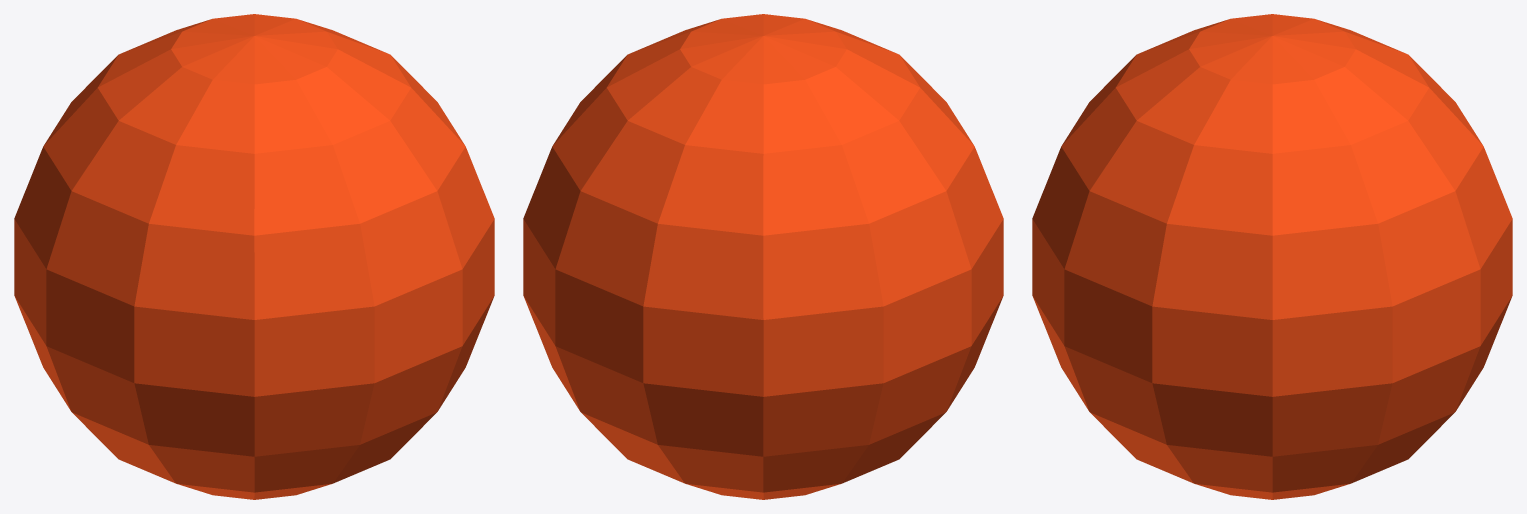
File: n5_group1376589167_lev5.glb
3 renders of one model, left to right at view 1: azimuth 30°, elevation 25°; view 2: azimuth 150°, elevation 25°; view 3: azimuth 270°, elevation 25°, orthographic.
Parts seen in each view (by area): view 1: n5_group1376589167_lev5; view 2: n5_group1376589167_lev5; view 3: n5_group1376589167_lev5.
Part boxes in pixels (x1,y1,x2,y2): n5_group1376589167_lev5: (14,14,494,499); n5_group1376589167_lev5: (523,14,1003,499); n5_group1376589167_lev5: (1032,14,1512,499).
Bounding box in the file's own units: 2.8 × 2.84 × 2.8.
